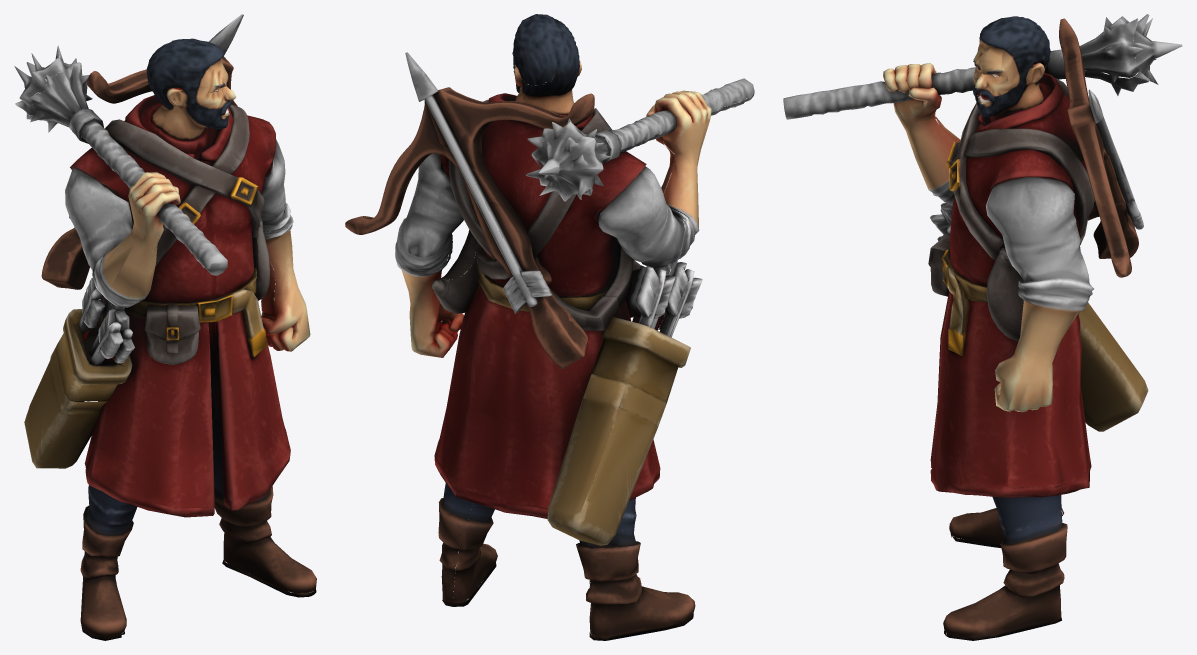
The model's file is MZ4250 - Thug.glb.
3 renders of one model, left to right at view 1: azimuth 30°, elevation 25°; view 2: azimuth 150°, elevation 25°; view 3: azimuth 270°, elevation 25°, orthographic. The views are drawn at different scales.
Parts seen in each view (by area): view 1: Cylinder.001; view 2: Cylinder.001; view 3: Cylinder.001.
Boxes of the visible parts, bbox=[...] form: Cylinder.001: bbox=[14, 14, 316, 640]; Cylinder.001: bbox=[345, 14, 754, 640]; Cylinder.001: bbox=[783, 14, 1182, 640].
Bounding box in the file's own units: 0.6713 × 1.38 × 0.8789.
1 material, 1 textured.
